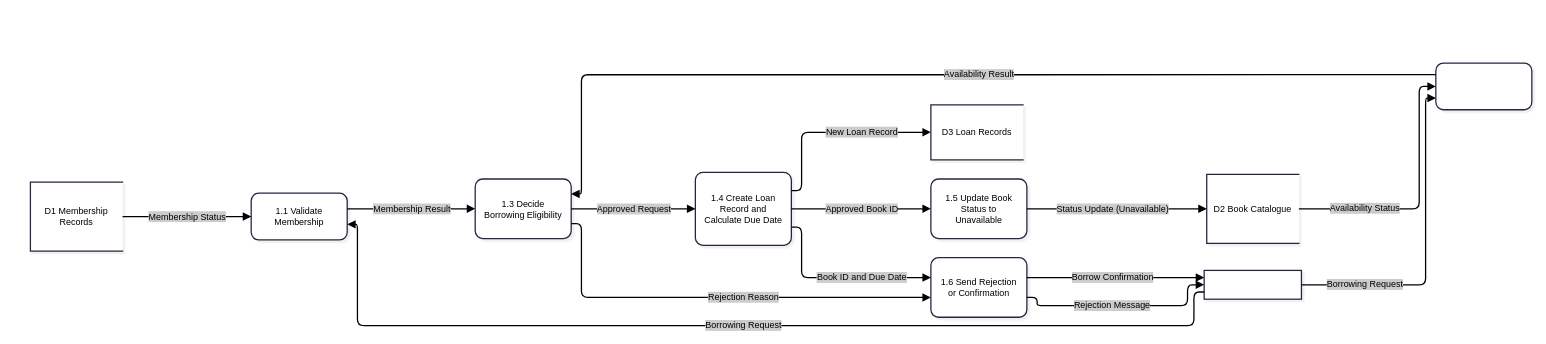
The diagram is 1546 pixels wide and 344 high, and some of its shapes have lost their labels. The shapes that lost their labels are listed below. From the top down, each one's centre as x and y in pixels, then its label:
point 1485,87: 1.2 Check Book Availability
point 1253,285: Student
